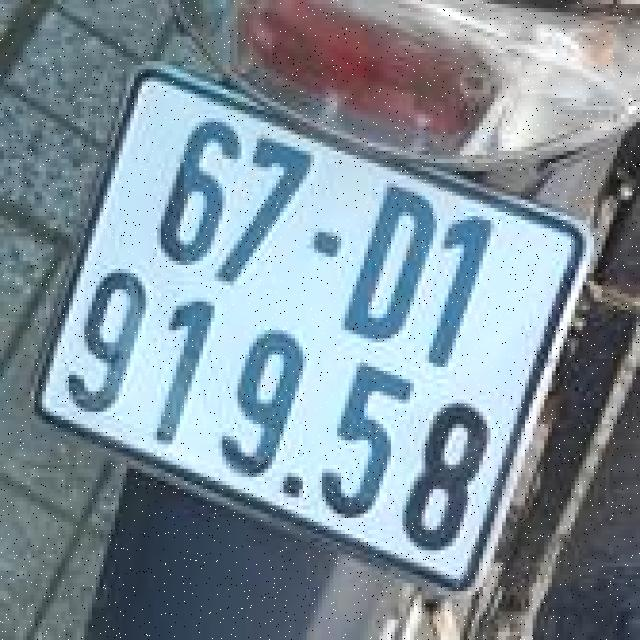1: (405, 202, 501, 379), (131, 286, 223, 457)
5: (305, 348, 422, 534)
6: (145, 108, 255, 282)
7: (207, 131, 317, 304)
8: (388, 387, 502, 570)
9: (205, 313, 320, 492), (55, 256, 159, 428)
D: (328, 173, 450, 358)
